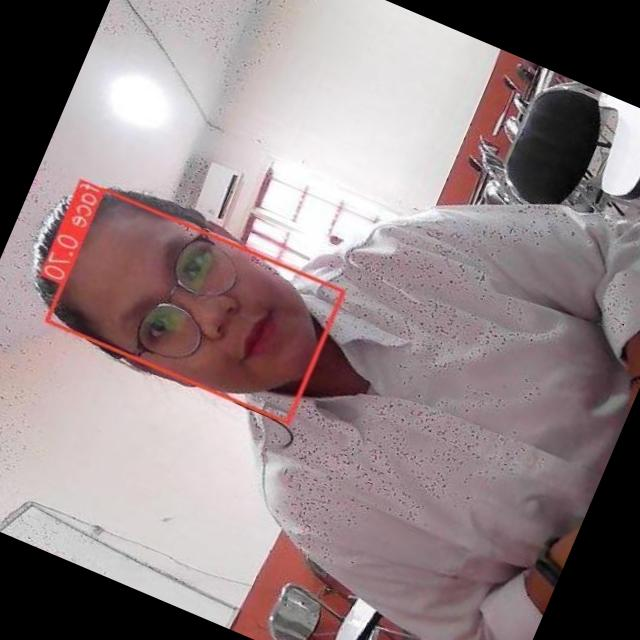bareface: (24, 174, 342, 418)
